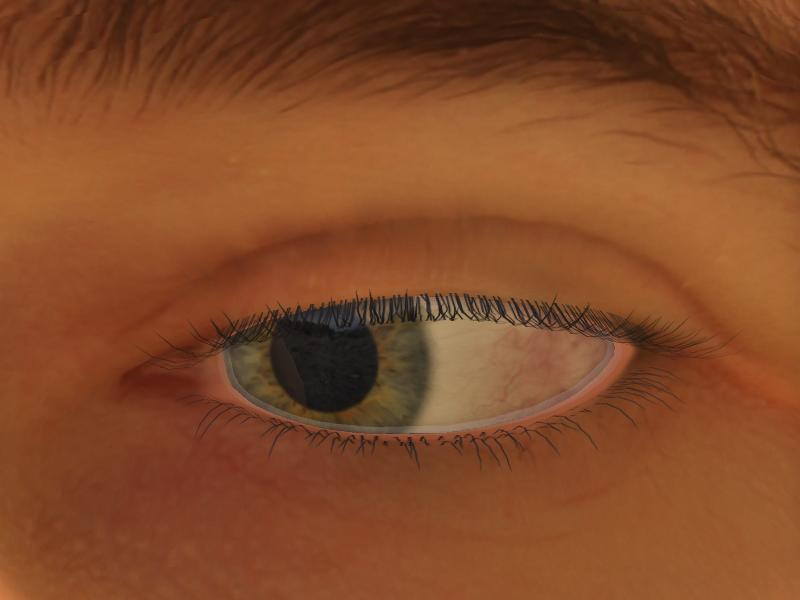eye: (230, 299, 428, 431)
